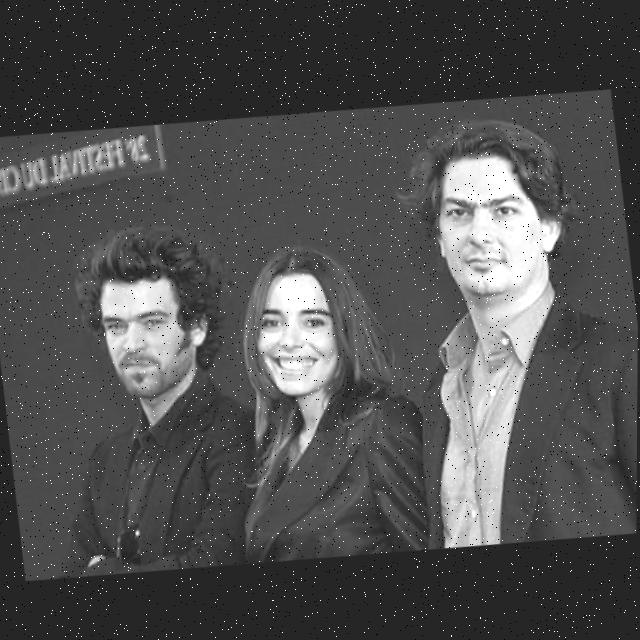face: (417, 156, 567, 314), (75, 252, 224, 403), (238, 252, 348, 405)
